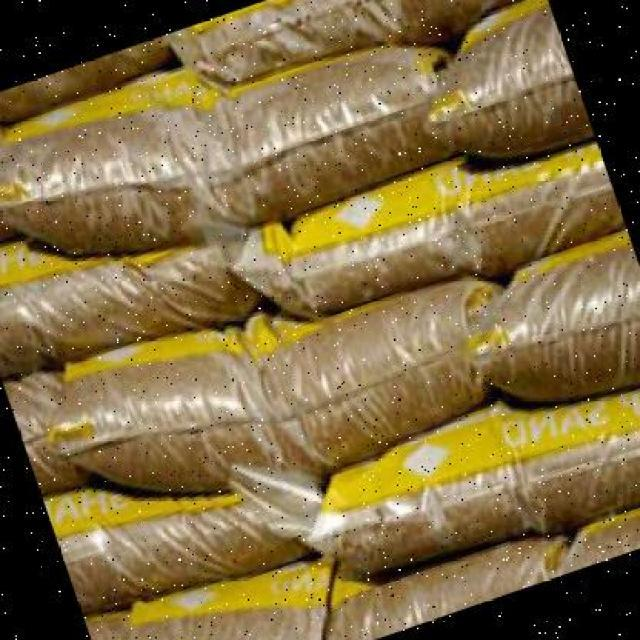gunny_bag: (48, 276, 494, 493), (0, 54, 460, 259), (231, 131, 624, 313), (304, 387, 640, 583), (129, 523, 563, 640), (0, 227, 268, 377), (46, 483, 318, 618), (174, 0, 501, 96), (440, 0, 592, 145), (0, 35, 176, 120), (3, 370, 103, 498), (555, 507, 640, 578), (84, 604, 126, 640)
